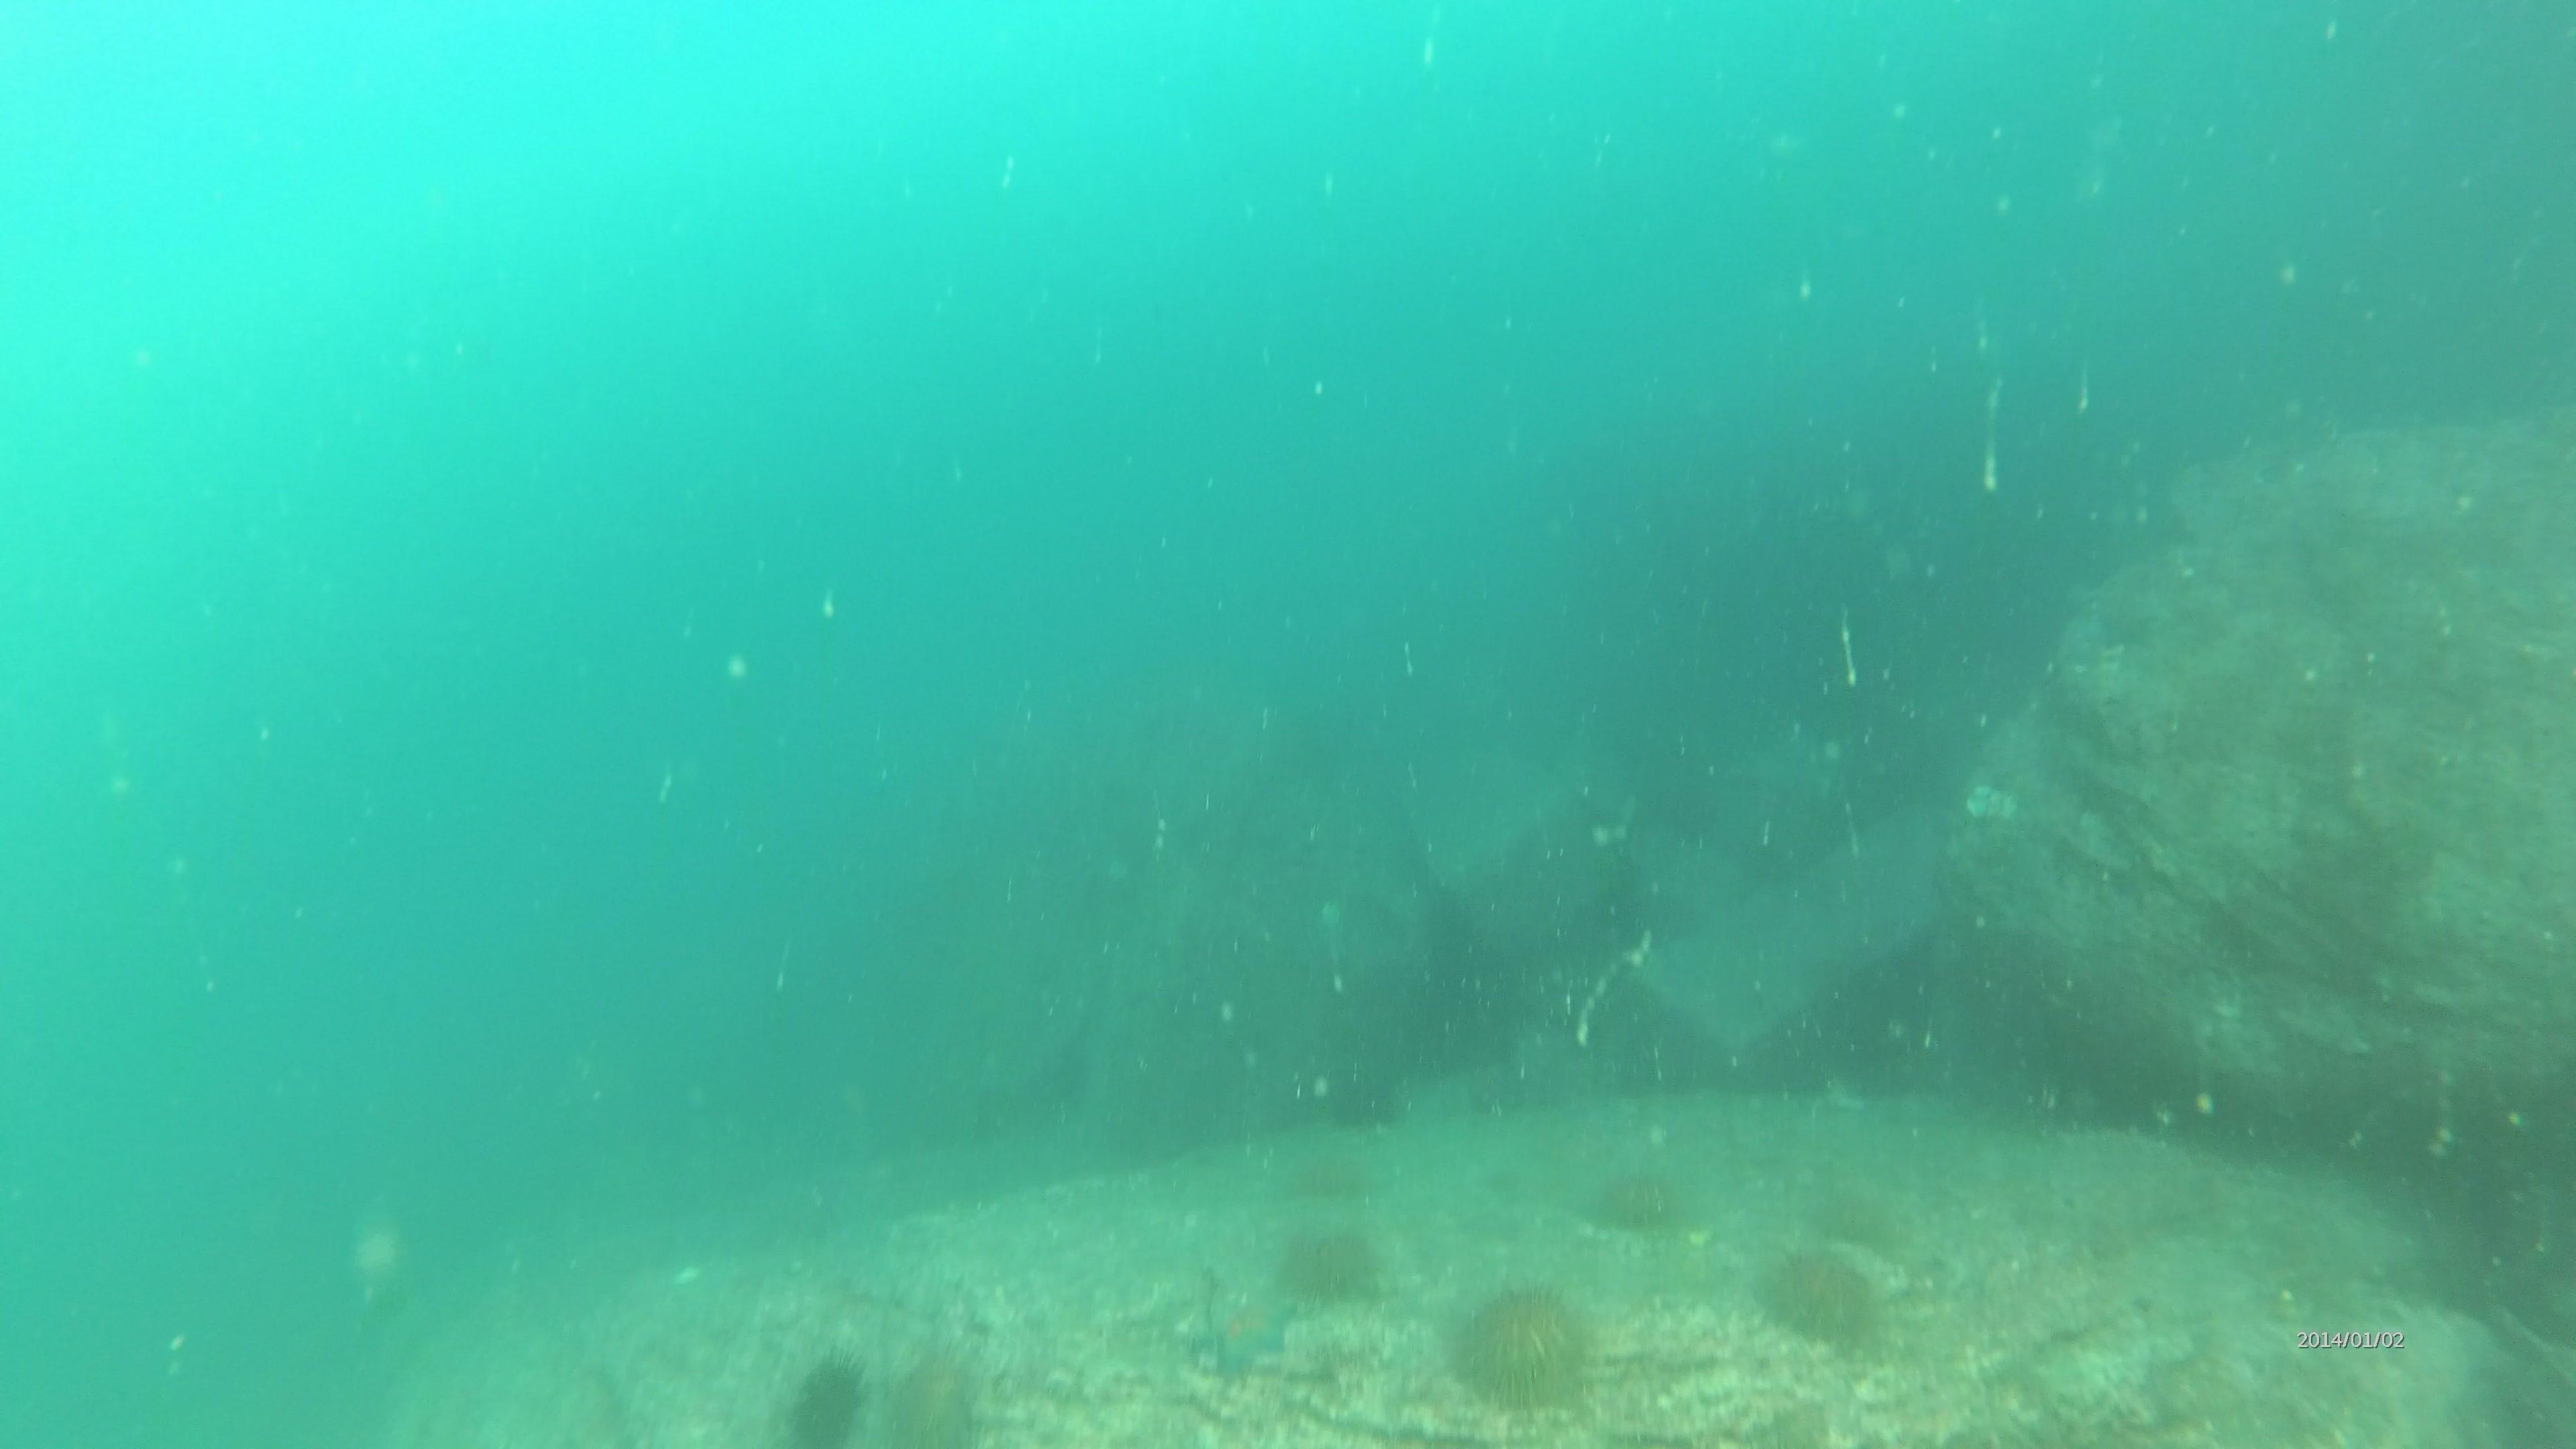echinus: (1444, 1274, 1601, 1414), (1750, 1238, 1890, 1353), (876, 1343, 993, 1449), (1272, 1215, 1391, 1315), (1582, 1155, 1697, 1244), (777, 1348, 876, 1449), (1297, 1157, 1384, 1205)
starfish: (1184, 1274, 1304, 1380)
